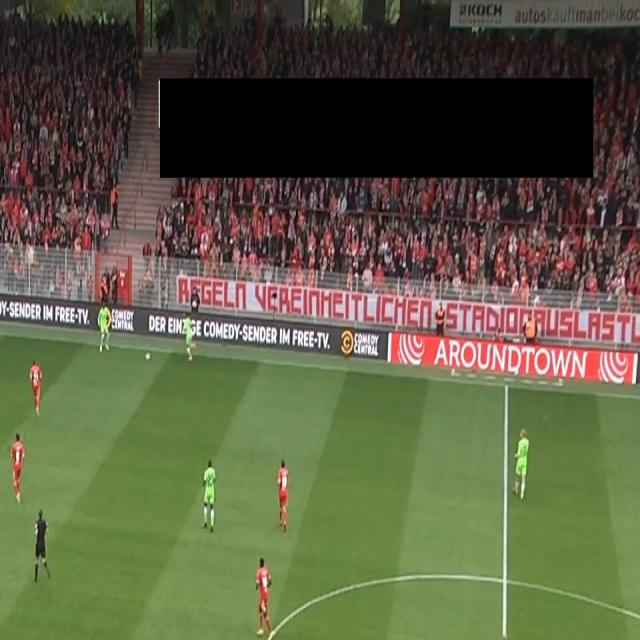ball: (144, 350, 151, 363)
